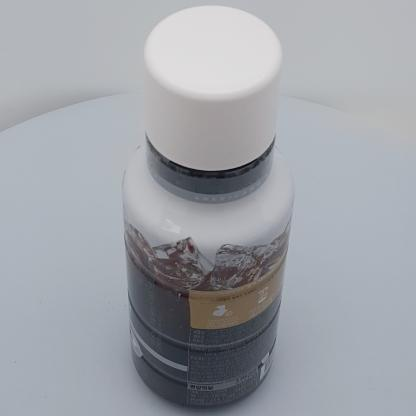-------------1-1L: (122, 5, 295, 412)
